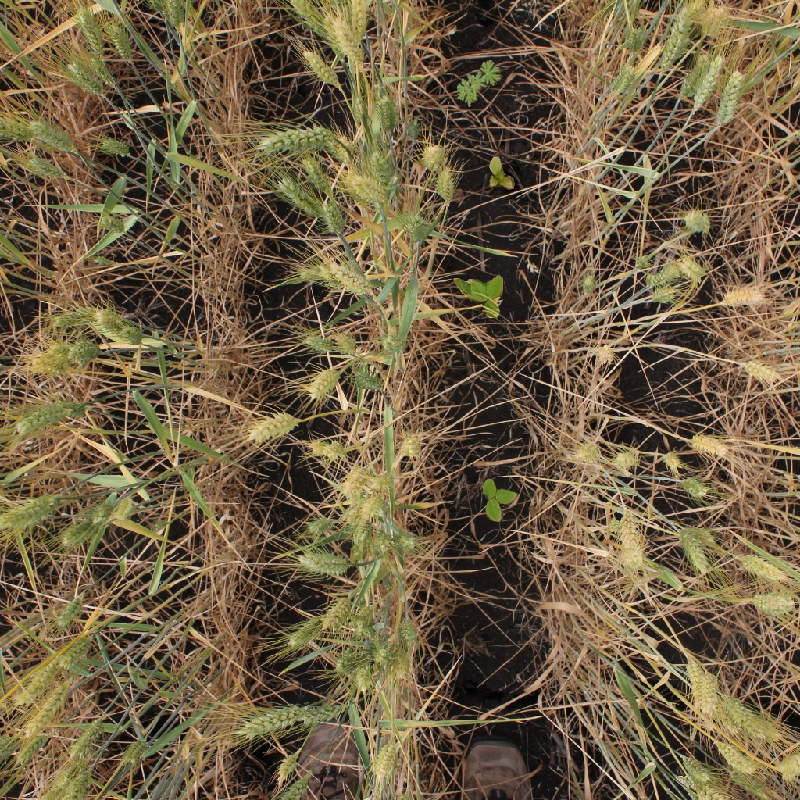spikelet: (233, 699, 341, 741), (655, 1, 701, 73), (718, 693, 783, 742), (16, 680, 68, 740), (256, 123, 336, 154), (677, 50, 723, 103), (13, 398, 76, 435), (677, 756, 731, 799), (89, 306, 143, 345), (1, 494, 57, 530), (684, 659, 720, 715), (713, 68, 746, 127), (276, 176, 322, 217), (615, 514, 647, 572), (58, 508, 103, 549), (28, 116, 77, 153), (344, 169, 389, 209), (321, 260, 371, 296), (325, 13, 362, 61), (246, 410, 299, 443), (677, 527, 712, 574), (296, 547, 350, 577), (369, 147, 400, 199), (75, 5, 105, 57), (67, 719, 105, 760), (714, 739, 757, 775), (299, 153, 334, 195), (65, 60, 105, 96), (368, 739, 401, 782), (27, 343, 71, 375), (301, 48, 339, 85), (284, 614, 322, 650), (738, 552, 785, 581), (346, 492, 387, 525), (104, 20, 136, 60), (320, 595, 355, 631), (720, 282, 766, 309), (286, 1, 326, 32), (751, 590, 796, 617), (306, 366, 341, 400), (342, 462, 374, 499), (88, 56, 120, 91), (15, 735, 50, 767), (22, 154, 65, 180), (698, 4, 731, 37), (344, 1, 371, 41), (349, 521, 374, 564), (348, 603, 377, 640), (319, 197, 347, 235), (53, 595, 84, 629), (372, 93, 399, 132), (689, 431, 729, 457), (351, 359, 383, 391), (61, 767, 92, 800), (607, 63, 637, 96), (401, 211, 431, 244), (309, 436, 348, 461), (271, 775, 311, 799), (742, 358, 780, 383), (434, 164, 458, 202), (273, 749, 301, 781), (643, 264, 678, 289), (1, 114, 33, 141), (300, 329, 334, 354), (617, 543, 646, 572), (419, 141, 447, 171), (120, 738, 148, 768), (775, 747, 799, 782), (350, 661, 377, 692), (67, 338, 99, 364), (52, 311, 98, 329), (622, 24, 649, 54), (572, 439, 602, 466), (610, 446, 641, 472), (110, 492, 136, 523), (397, 430, 424, 459), (97, 134, 131, 157), (334, 645, 360, 675), (679, 475, 710, 500), (682, 207, 710, 233), (678, 255, 704, 283), (160, 1, 188, 27), (367, 469, 396, 494), (304, 514, 335, 537), (398, 617, 421, 648), (394, 530, 419, 555), (334, 329, 358, 355), (381, 330, 405, 355), (98, 215, 128, 234), (650, 285, 676, 303), (580, 271, 598, 296), (662, 451, 683, 472), (592, 343, 614, 363)
weed: (452, 274, 503, 318), (457, 60, 503, 107), (483, 479, 518, 522), (489, 156, 515, 190)
